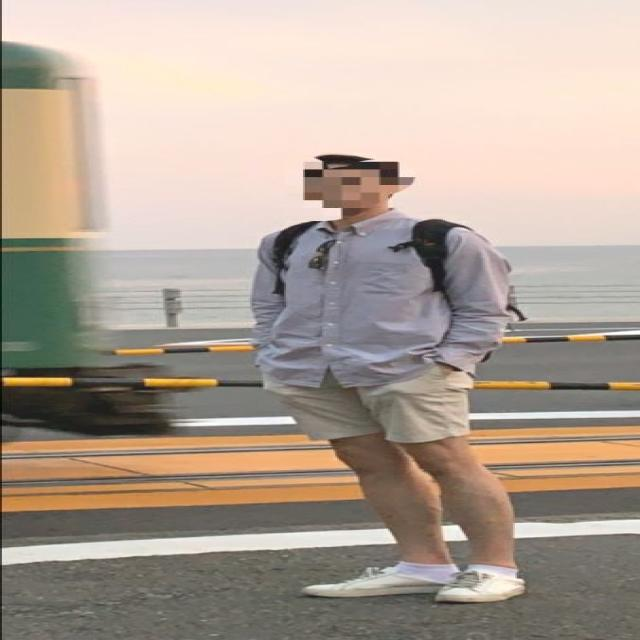shirt: (249, 206, 511, 388)
shortpants: (258, 360, 476, 446)
